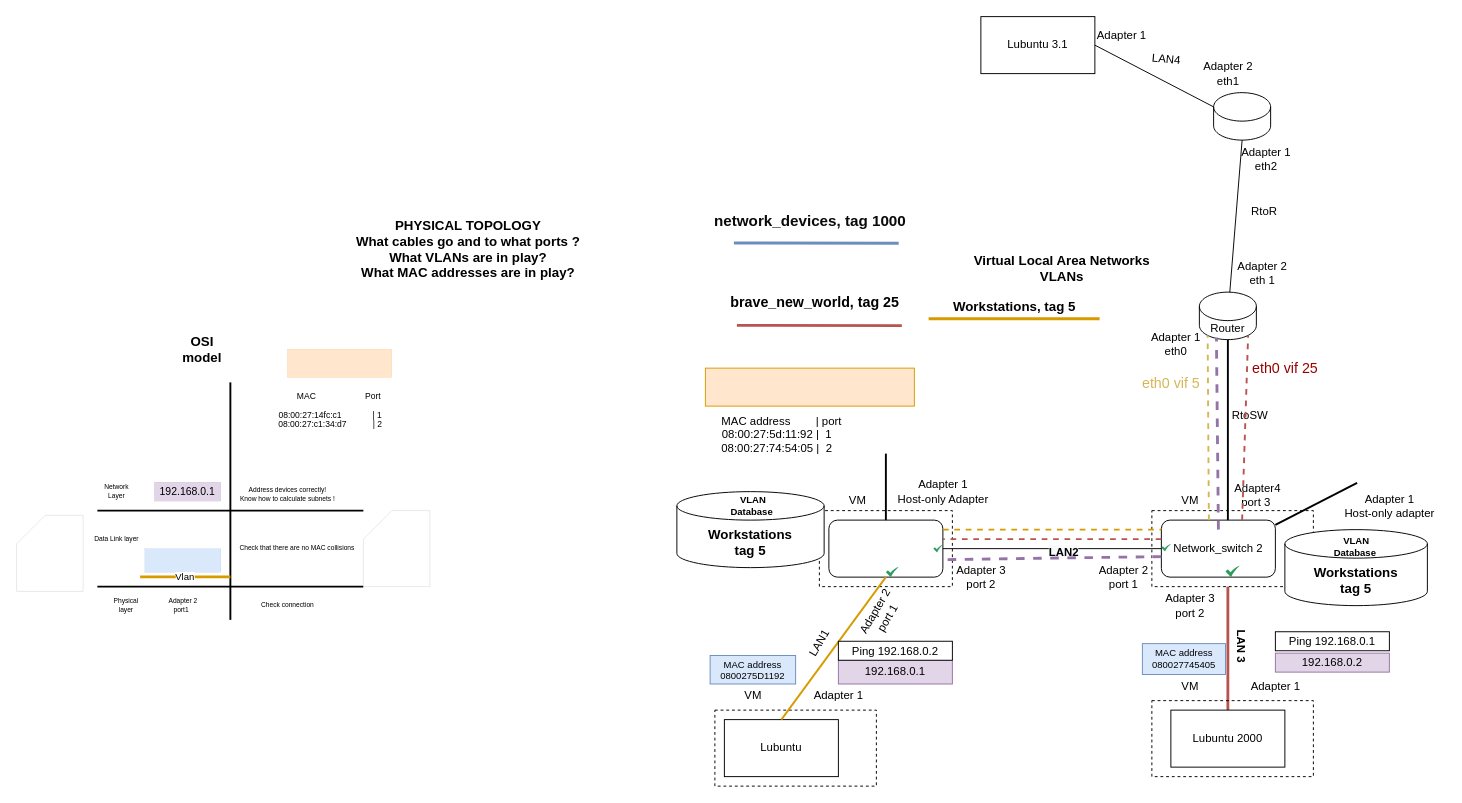
Image size: 1462x803. Some labels were removed from this diagram. The centre of each missing label's shape, as x and y in pixels:
"Logical topology" goes at point (396, 548).
"MAC address 08002714FCC" goes at point (182, 560).
"MAC address table or Forwarding Database or FDB" goes at point (809, 386).
"Physical topology" goes at point (49, 553).
"Router 2" goes at point (1242, 116).
"Switch 1" goes at point (885, 548).
"Where did these MAC addresses come form?" goes at point (339, 363).
